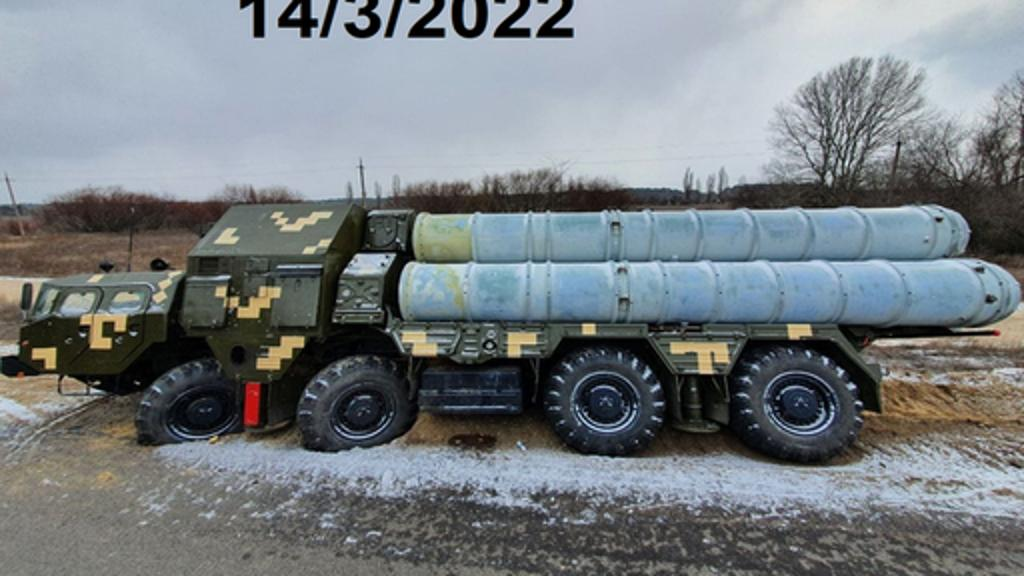MLRS: (4, 188, 1020, 468)
